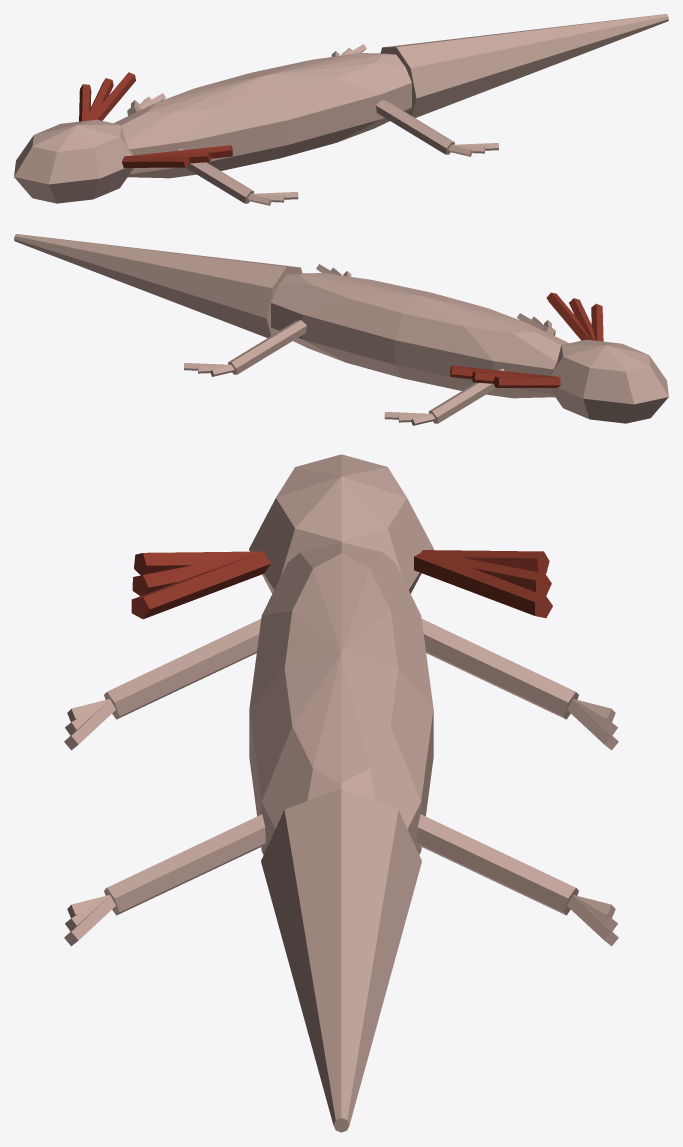
File: olm.glb
The picture shows the model from 3 angles, top to bottom: view 1: azimuth 30°, elevation 25°; view 2: azimuth 150°, elevation 25°; view 3: azimuth 270°, elevation 25°; orthographic projection. The views are drawn at different scales.
Parts seen in each view (by area): view 1: body.001, tail, head.001, leg.003, leg.001, gill.003, gill.002, gill.005, gill.004, gill.001, gill; view 2: body.001, tail, head.001, leg.002, leg, gill, gill.005, gill.002, gill.001, gill.004, gill.003; view 3: body.001, tail, head.001, leg.002, leg.003, leg, leg.001, gill.005, gill.002, gill.001, gill, gill.003 (+1 smaller).
Boxes of the visible parts, bbox=[...] form: body.001: bbox=[114, 53, 411, 178]; tail: bbox=[380, 14, 668, 117]; head.001: bbox=[14, 119, 133, 203]; leg.003: bbox=[376, 100, 454, 154]; leg.001: bbox=[178, 148, 254, 203]; gill.003: bbox=[122, 156, 189, 167]; gill.002: bbox=[88, 72, 135, 120]; gill.005: bbox=[127, 145, 232, 158]; gill.004: bbox=[128, 150, 210, 163]; gill.001: bbox=[85, 78, 113, 120]; gill: bbox=[79, 84, 91, 121]; body.001: bbox=[271, 273, 568, 398]; tail: bbox=[14, 234, 302, 337]; head.001: bbox=[549, 339, 668, 423]; leg.002: bbox=[228, 320, 306, 374]; leg: bbox=[428, 368, 504, 423]; gill: bbox=[493, 376, 560, 387]; gill.005: bbox=[546, 292, 591, 340]; gill.002: bbox=[450, 365, 558, 378]; gill.001: bbox=[472, 371, 558, 383]; gill.004: bbox=[569, 298, 595, 340]; gill.003: bbox=[591, 303, 603, 341]; body.001: bbox=[249, 542, 433, 854]; tail: bbox=[261, 788, 421, 1132]; head.001: bbox=[249, 454, 433, 593]; leg.002: bbox=[417, 814, 578, 915]; leg.003: bbox=[104, 814, 265, 915]; leg: bbox=[421, 619, 578, 719]; leg.001: bbox=[104, 619, 261, 719]; gill.005: bbox=[131, 551, 270, 619]; gill.002: bbox=[414, 551, 552, 618]; gill.001: bbox=[415, 551, 551, 595]; gill: bbox=[416, 550, 549, 573]; gill.003: bbox=[134, 551, 263, 575].
Size of the model in its own units: 0.374 by 0.044 by 0.1376.
